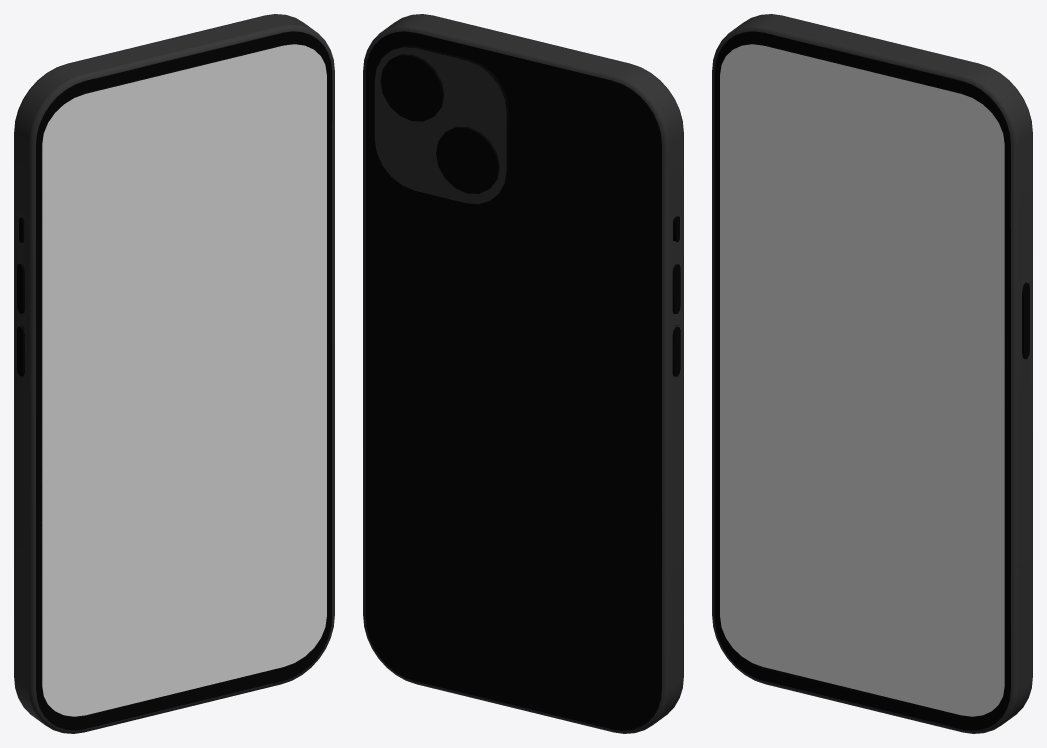
File: smartphone.glb
The picture shows the model from 3 angles, left to right: view 1: azimuth 30°, elevation 25°; view 2: azimuth 150°, elevation 25°; view 3: azimuth 330°, elevation 25°; orthographic projection.
Parts seen in each view (by area): view 1: Plane, Cube; view 2: Cube; view 3: Plane, Cube.
Boxes of the visible parts, <box> form: Plane: <box>42,44,326,716</box>; Cube: <box>14,14,334,733</box>; Cube: <box>363,14,683,733</box>; Plane: <box>720,44,1004,716</box>; Cube: <box>712,14,1032,733</box>.
Size of the model in its own units: 5.7 by 11.62 by 0.7533.
1 material, 1 textured.
